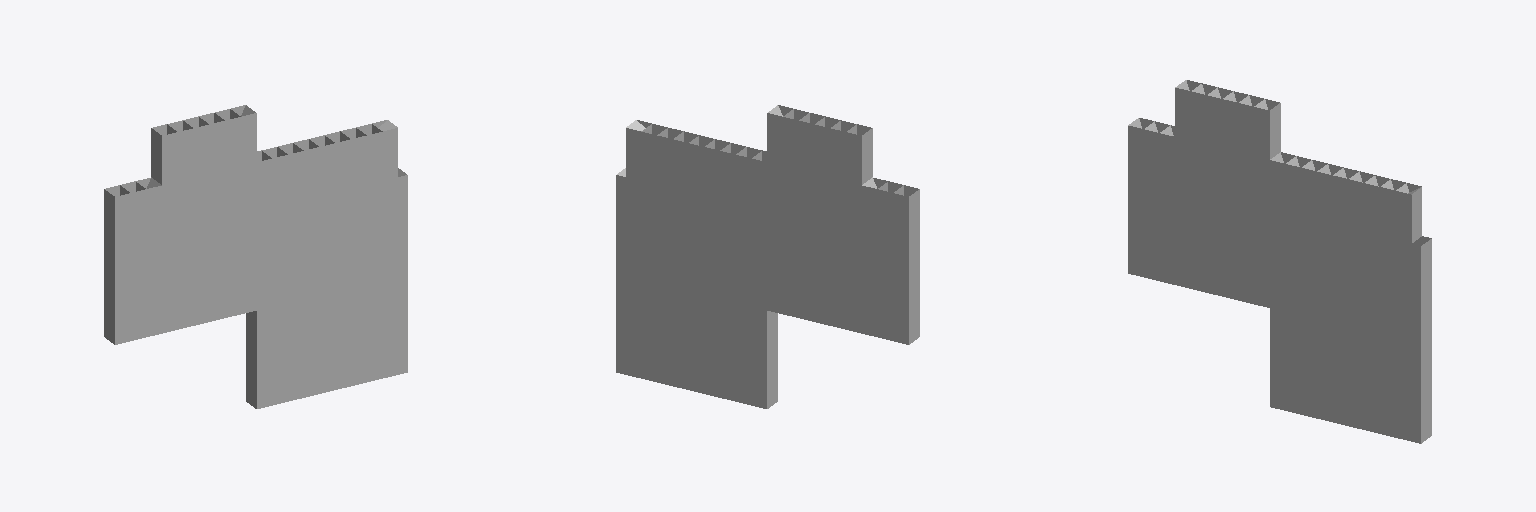
File: 3d_Barrens-Oasis 02.wlw.obj
3 views of the same model, side by side, from view 1: azimuth 30°, elevation 25°; view 2: azimuth 150°, elevation 25°; view 3: azimuth 330°, elevation 25° (orthographic).
Bounding box in the file's own units: 155 × 150 × 10.